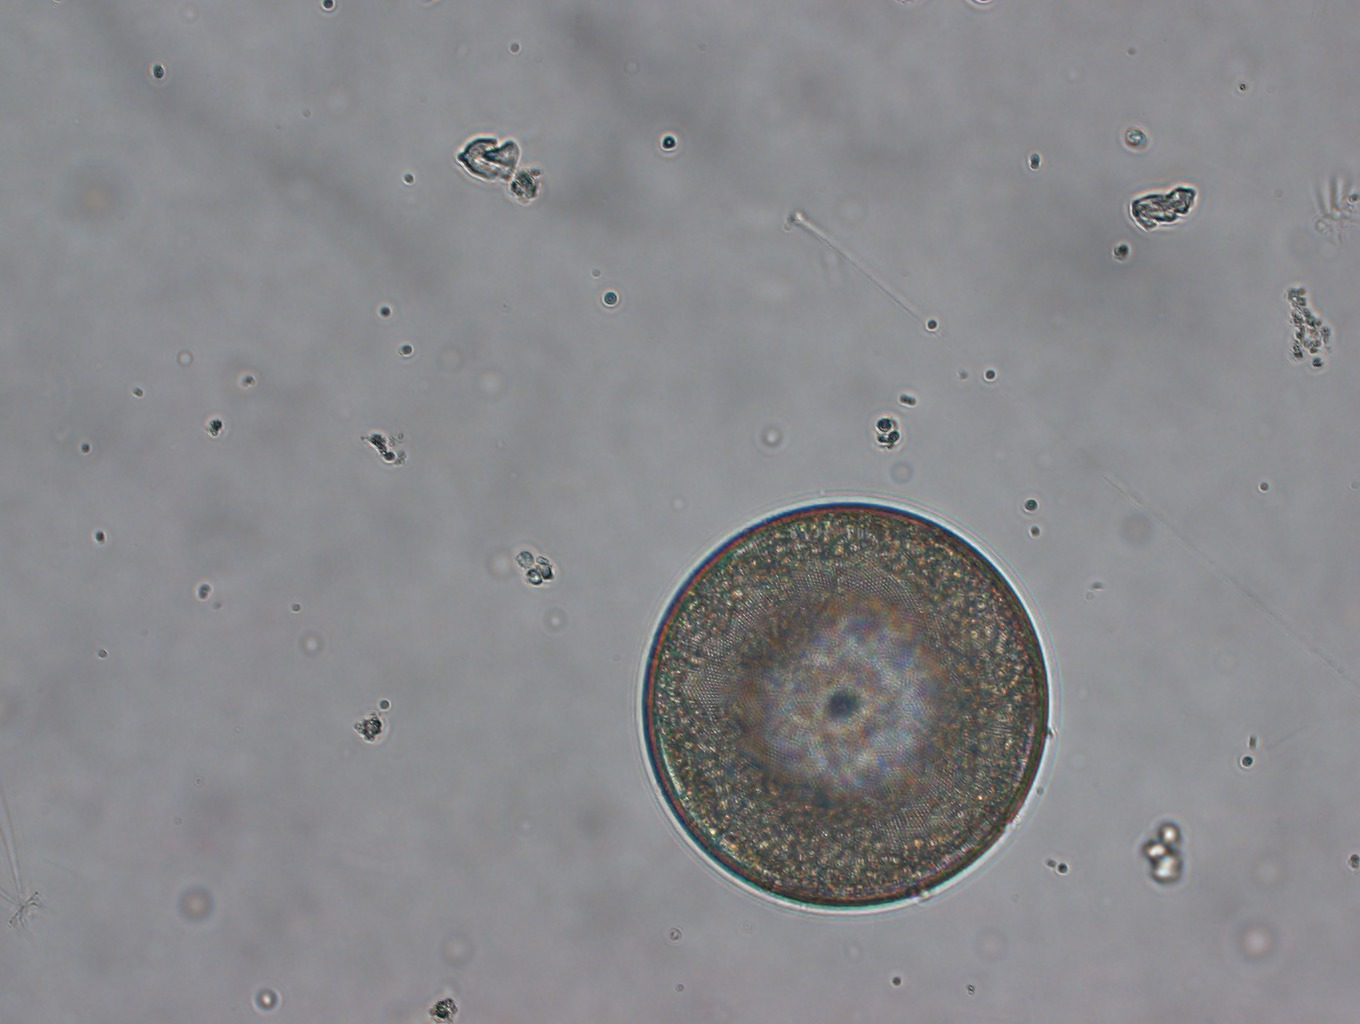coscinodiscus: (628, 494, 1057, 918)
